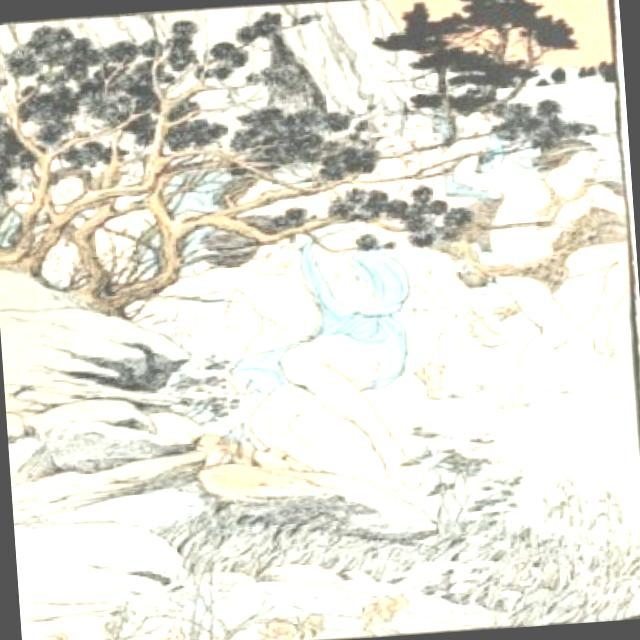Person: (0, 97, 640, 515), (203, 208, 449, 532)
